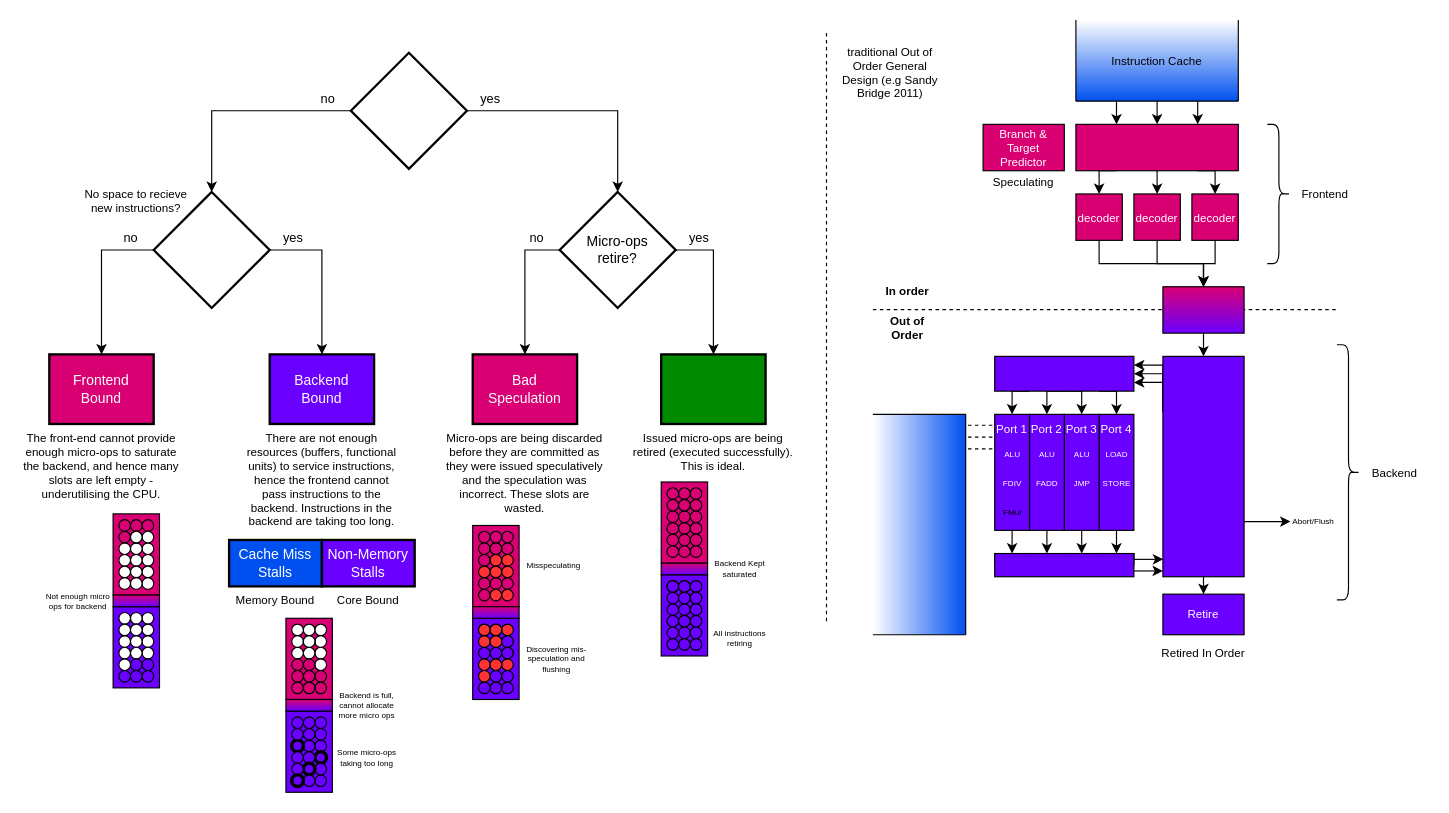
The diagram is 1449 pixels wide and 813 high, and some of its shapes have lost their labels. The centre of each missing label's shape, as x and y in pixels:
(Reorder Buffer): pixel 1203 466
Allocate: pixel 1203 309
Allocation Stall?: pixel 211 249
Data Cache: pixel 918 524
Micro-ops issued?: pixel 408 110
Pre-decode: pixel 1156 147
Retiring: pixel 712 389
Scheduler: pixel 1064 373
